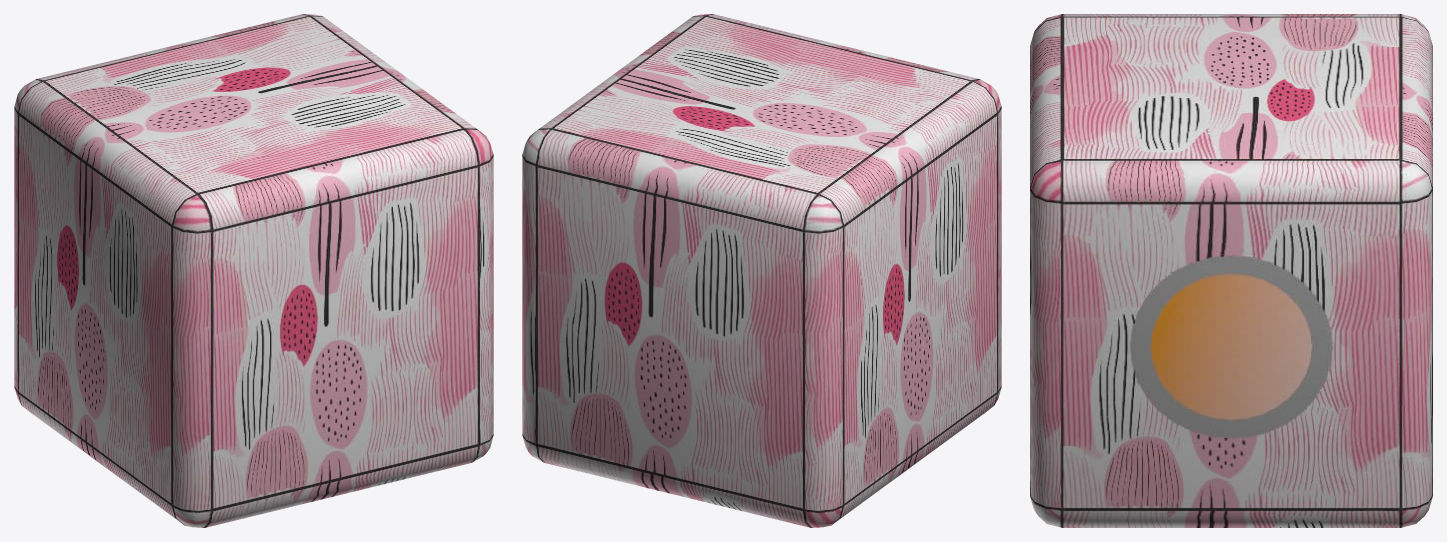
The model's file is nakagin_capsule_color_pink_trees.glb.
3 views of the same model, side by side, from view 1: azimuth 30°, elevation 25°; view 2: azimuth 150°, elevation 25°; view 3: azimuth 270°, elevation 25° (orthographic). The views are drawn at different scales.
Parts seen in each view (by area): view 1: capsule_low_white; view 2: capsule_low_white; view 3: capsule_low_white.
Part boxes in pixels (x1=…): capsule_low_white: x1=14, y1=14, x2=493, y2=527; capsule_low_white: x1=522, y1=14, x2=1001, y2=527; capsule_low_white: x1=1030, y1=14, x2=1432, y2=527.
Size of the model in its own units: 1 by 1 by 1.
Materials: 1 (1 with a texture image).
